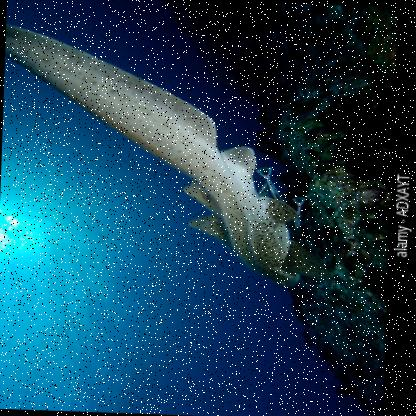zebra_shark: (0, 19, 316, 291)
